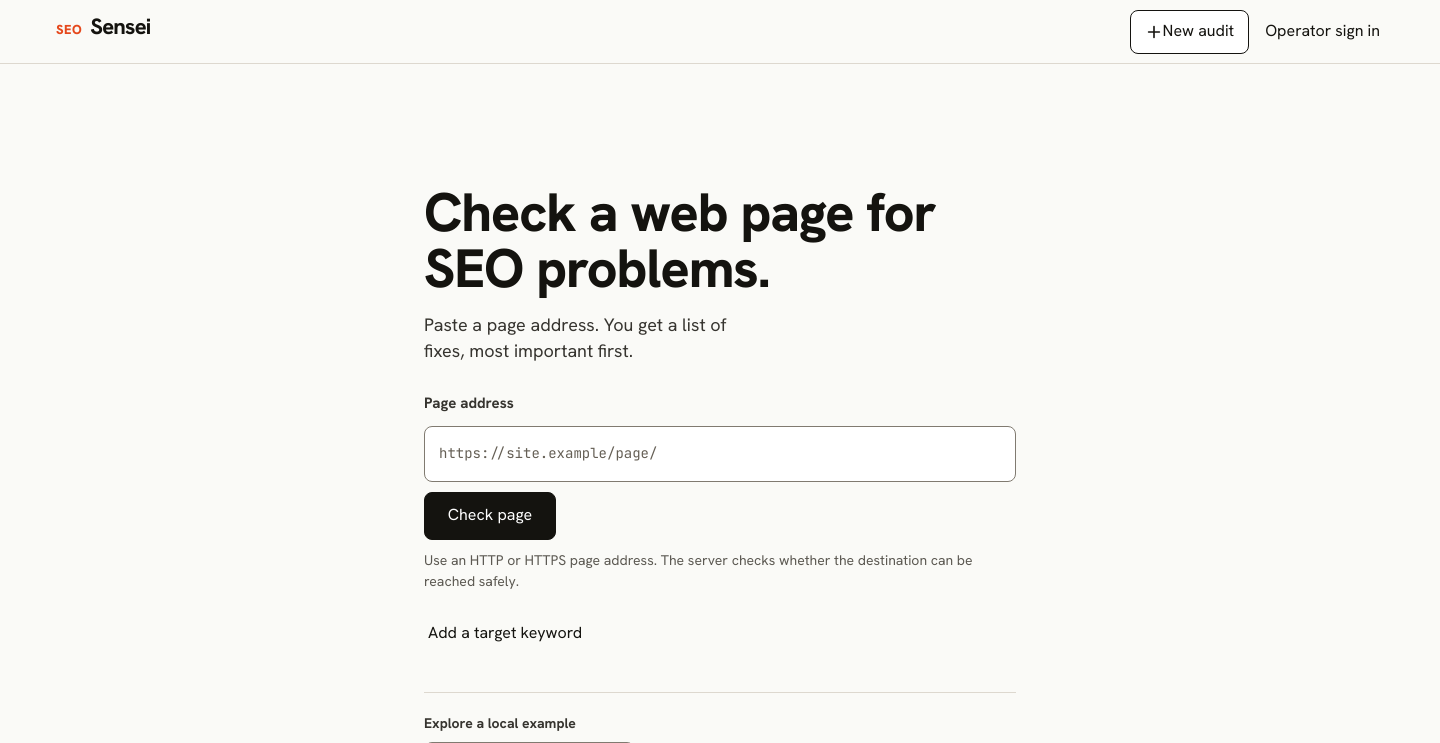
Test: public guest audit journey › copies only the server-provided snippet and reports success only when clipboard write succeeds
The width and height of the screenshot is (1440, 743).
Expected: the heading "Check a web page for SEO problems." is shown, x1=424 y1=185 x2=968 y2=296
Type "https://northstar.example/guides/home-solar/" into the field labelled "Page address" at (720, 454), box x1=424 y1=426 x2=1016 y2=482
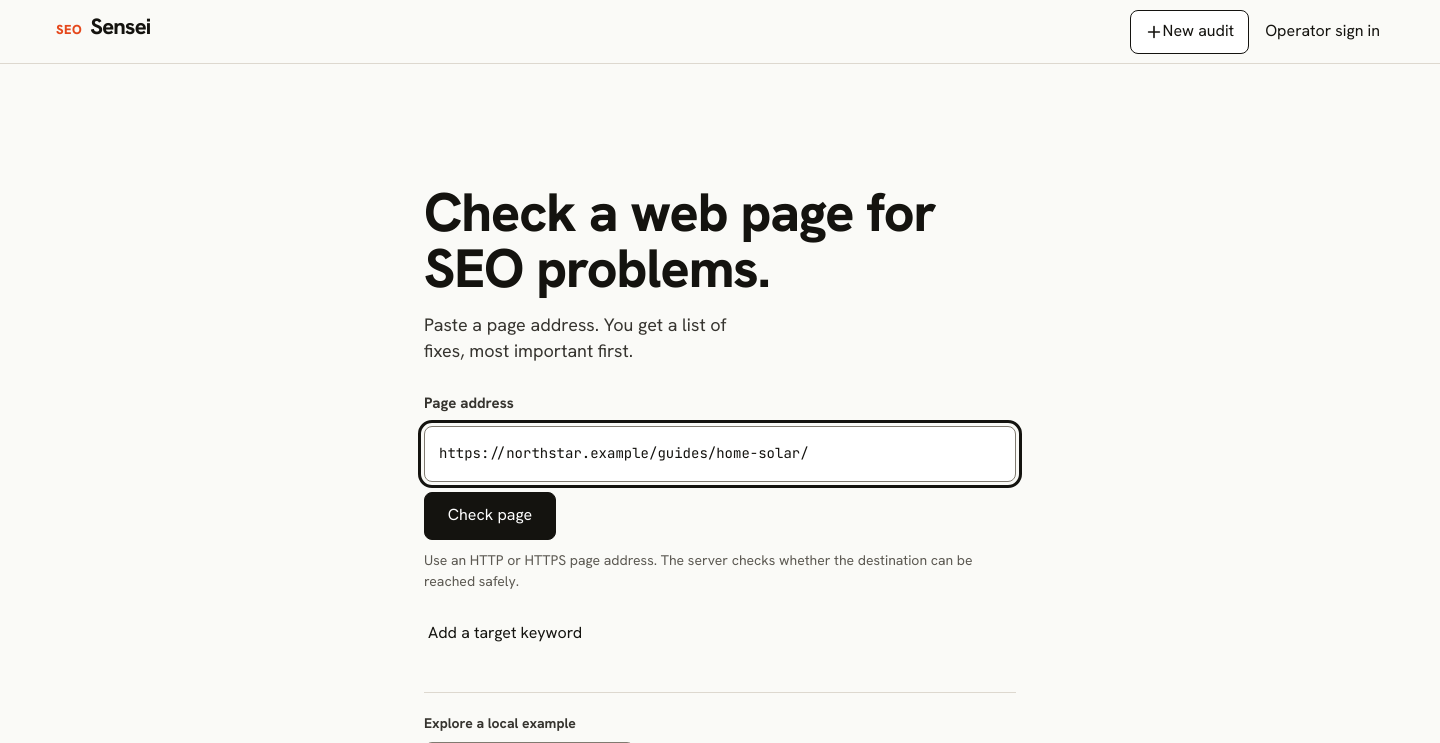
Click the button "Check page" at (490, 516), box x1=424 y1=492 x2=556 y2=540
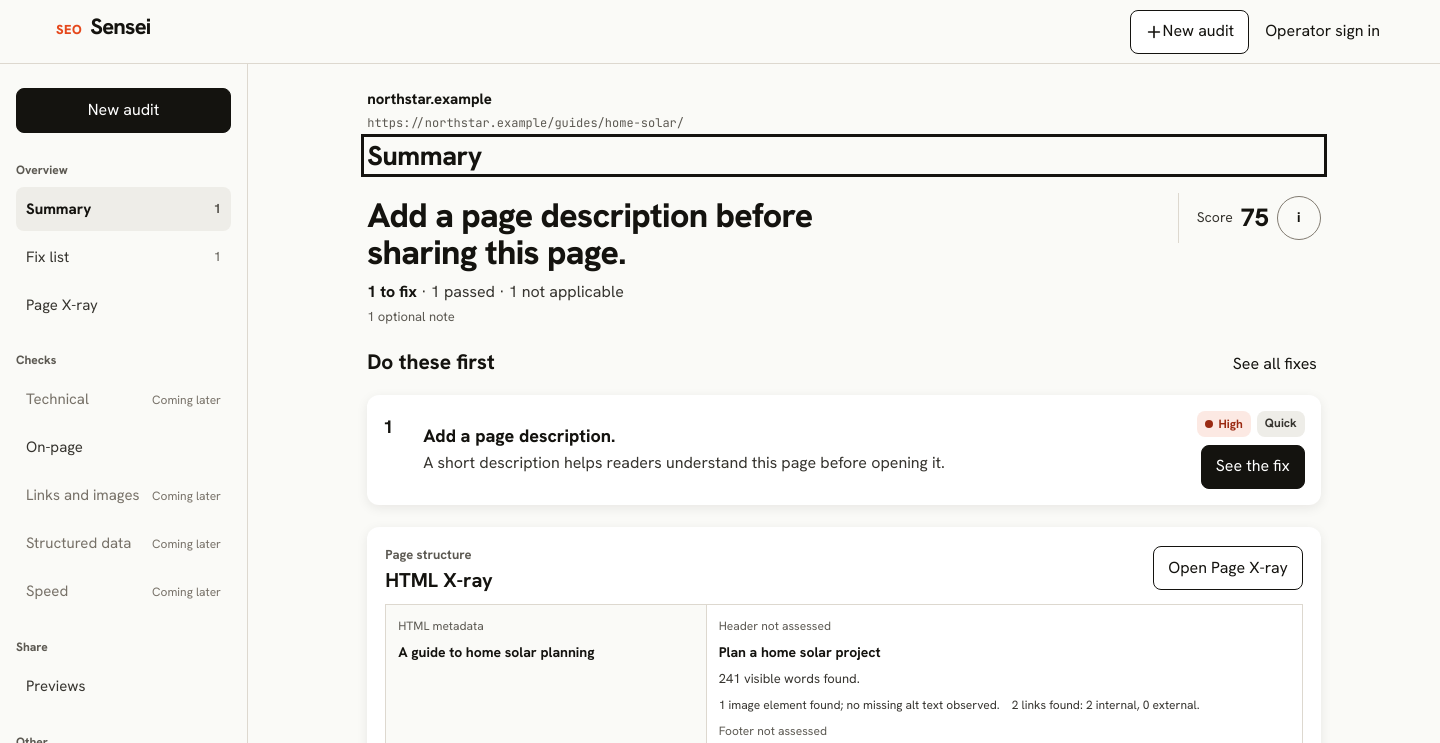
Result: the heading "Summary" is shown at x1=367 y1=138 x2=482 y2=173
Click the button "See the fix" at (1253, 467), box x1=1201 y1=445 x2=1305 y2=489
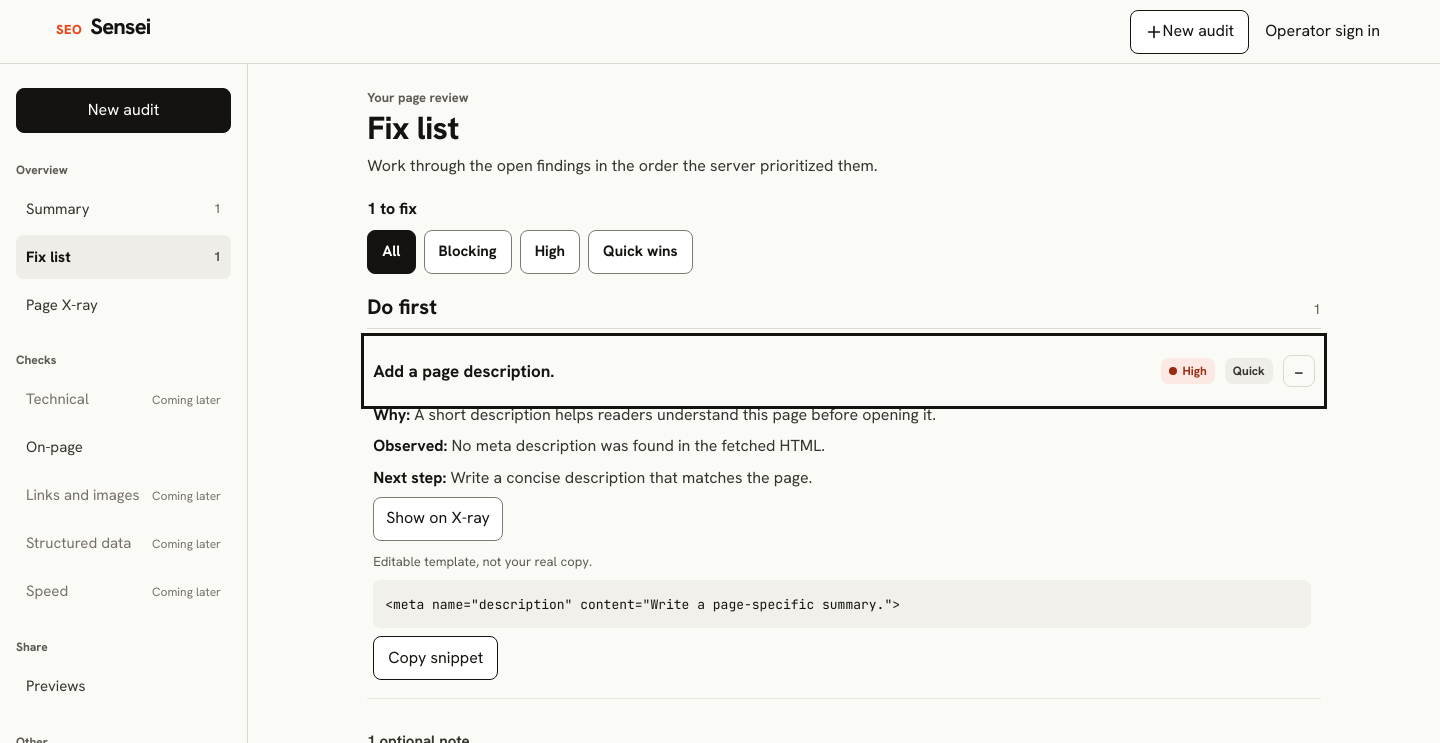
Click the button "Copy snippet" at (436, 658), box x1=373 y1=636 x2=498 y2=680
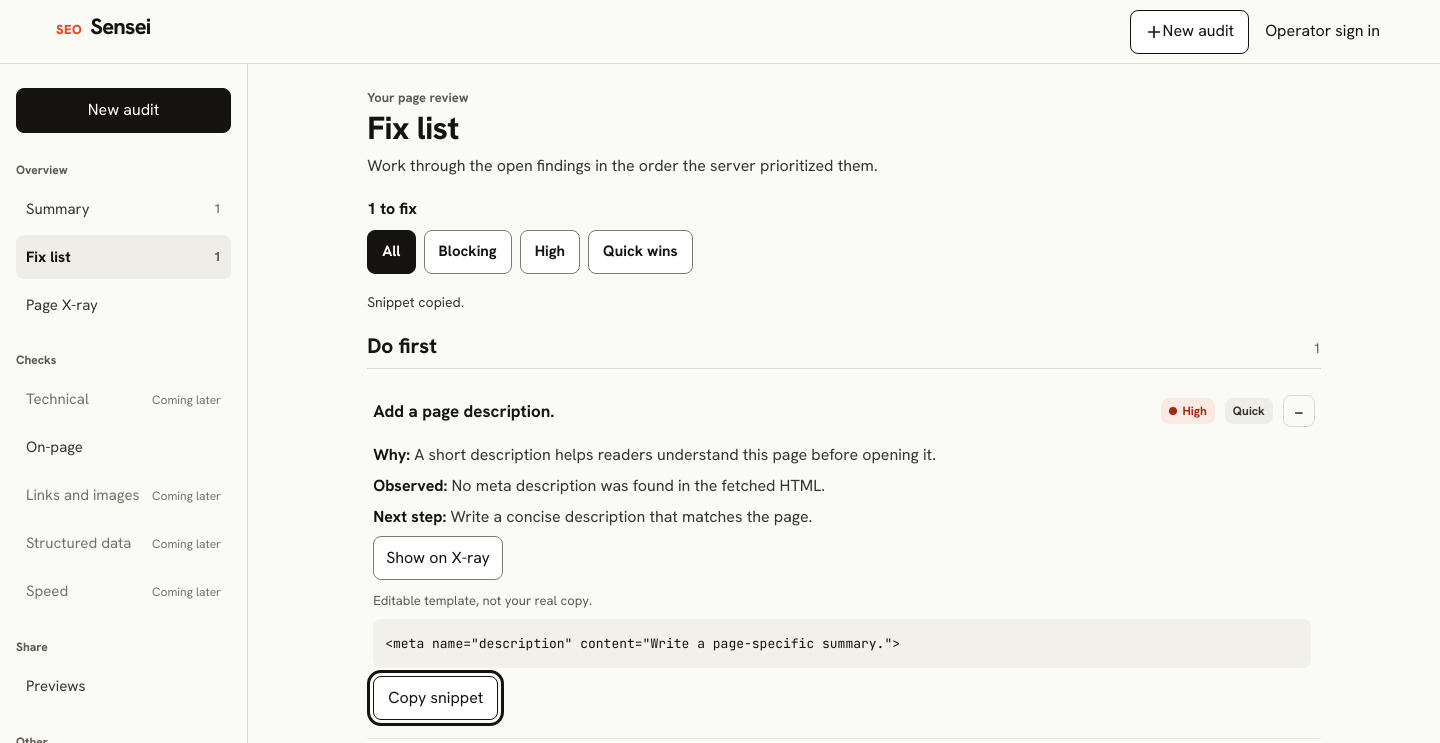
Result: the message reads "Snippet copied." at x1=367 y1=292 x2=464 y2=310
Click the button "Copy snippet" at (436, 698), box x1=373 y1=676 x2=498 y2=720
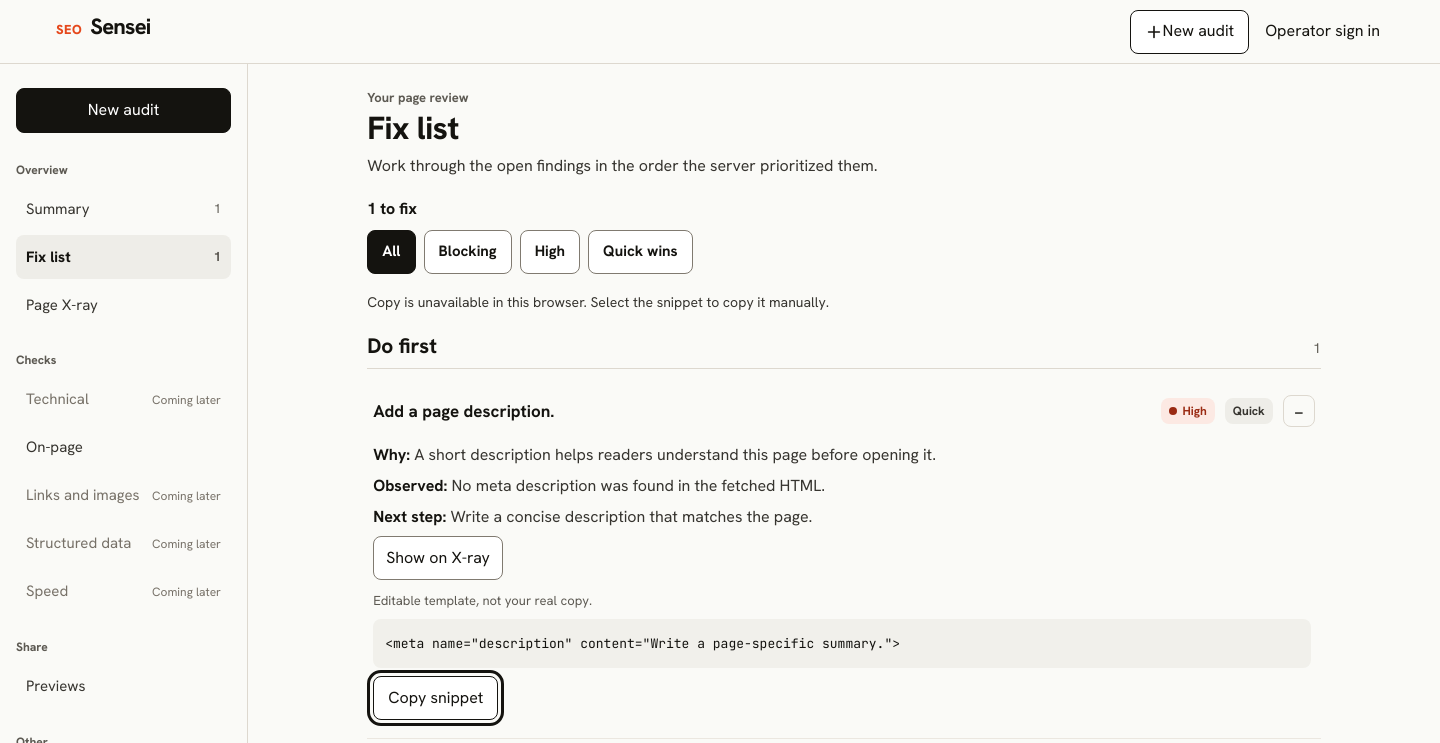
Result: the message shows "Select the snippet to copy it manually." at x1=367 y1=292 x2=829 y2=310
Result: the text "Snippet copied." is gone
